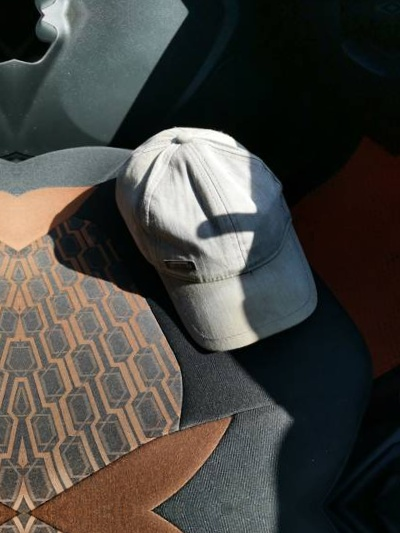Hat: (106, 118, 338, 369)
